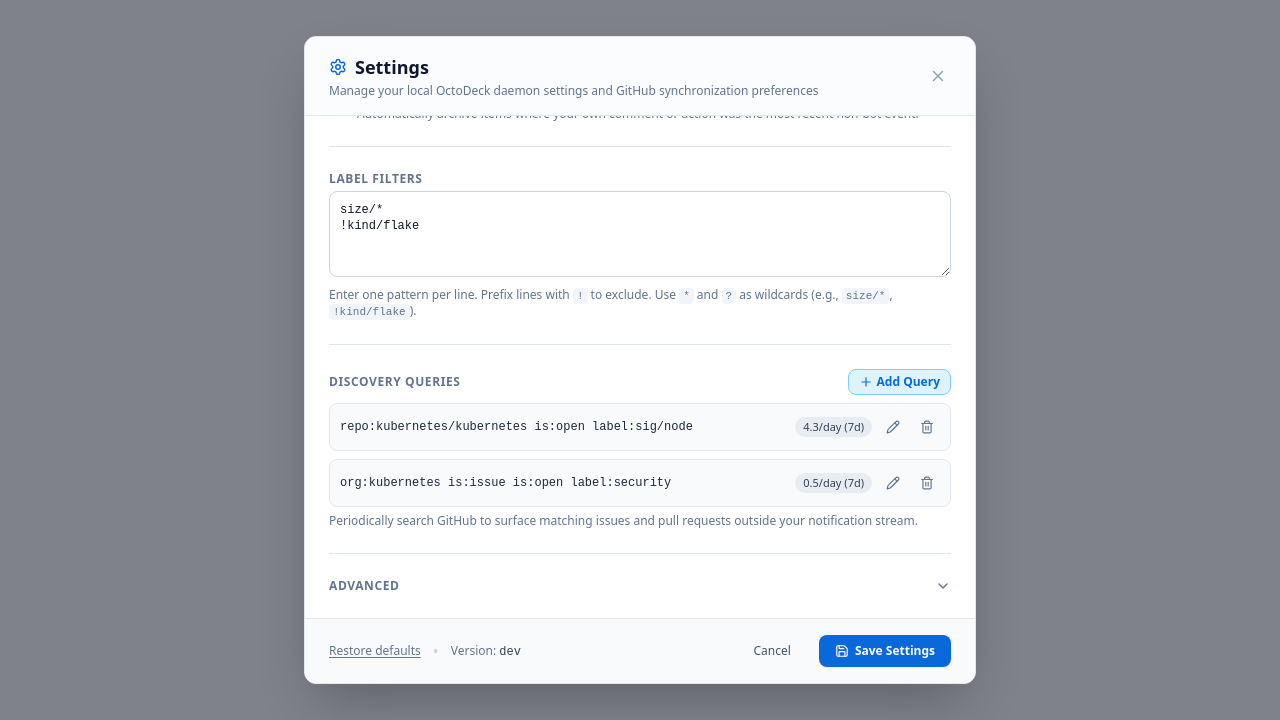
Test case: Settings Component › Discovery Queries & Discovery Interval Configuration › renders read-only discovery query rows with 7-day average badge and 30-day average tooltip
(page scrolled)
expect the text "Discovery Queries" is shown: met, box 329,374 -> 460,390
expect the text "Periodically search GitHub to surface matching issues and pull requests outside your notification stream." is shown: met, box 329,512 -> 918,529
Discovery Interval in Advanced section
Click the button "Advanced" at (364, 586), box 329,578 -> 951,594
(page scrolled)
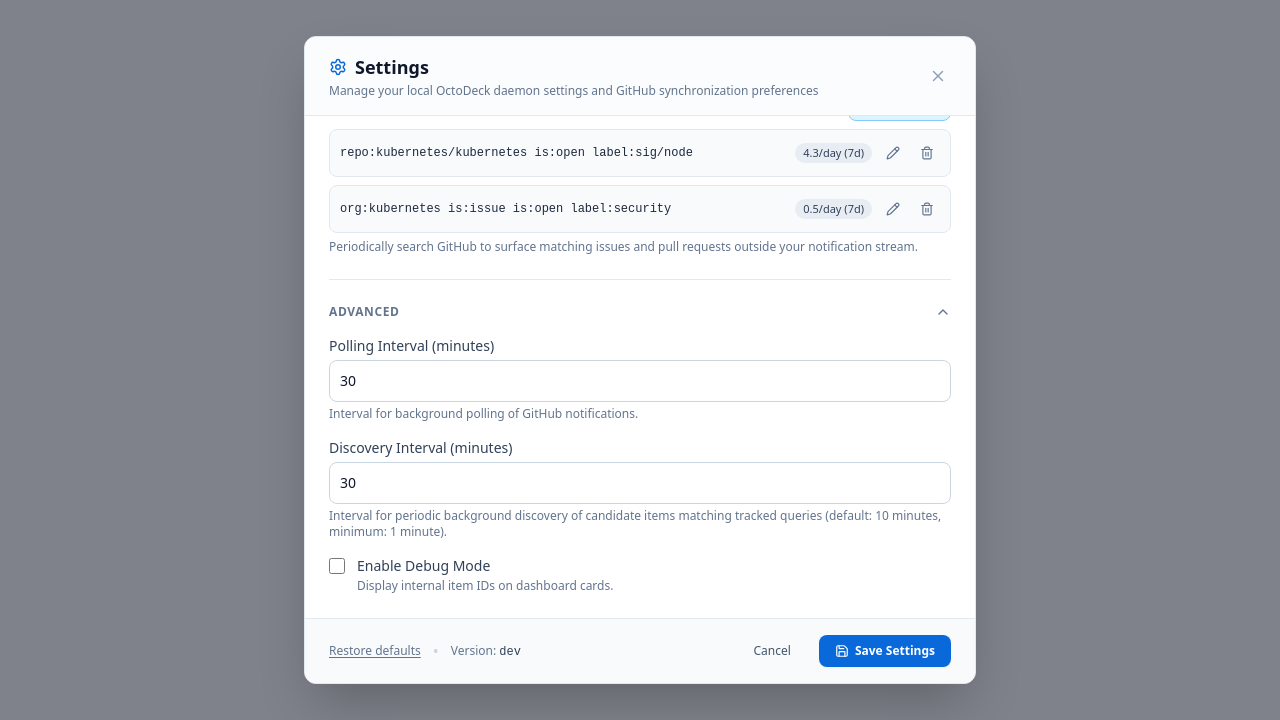
expect the number field labelled "Discovery Interval (minutes)" holds "30": met, box 329,462 -> 951,504
expect the text "Interval for periodic background discovery" is shown: met, box 329,507 -> 941,540
